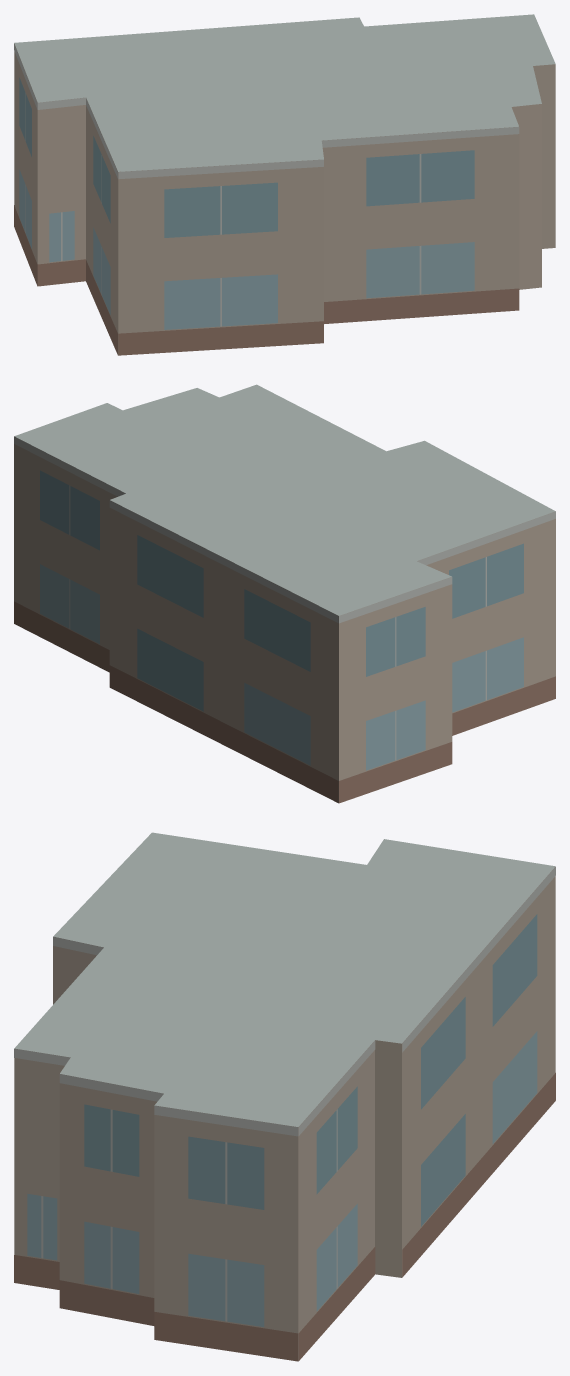
Rendered from survey-upis-33033300.glb.
The picture shows the model from 3 angles, top to bottom: view 1: azimuth 30°, elevation 25°; view 2: azimuth 150°, elevation 25°; view 3: azimuth 270°, elevation 25°; orthographic projection. The views are drawn at different scales.
Parts seen in each view (by area): view 1: survey-upis-33033300.tmp; view 2: survey-upis-33033300.tmp; view 3: survey-upis-33033300.tmp.
Part boxes in pixels (<box>): survey-upis-33033300.tmp: <box>14,14,555,355</box>; survey-upis-33033300.tmp: <box>14,384,555,803</box>; survey-upis-33033300.tmp: <box>14,832,555,1361</box>.
Bounding box in the file's own units: 16.46 × 6.1 × 12.79.
